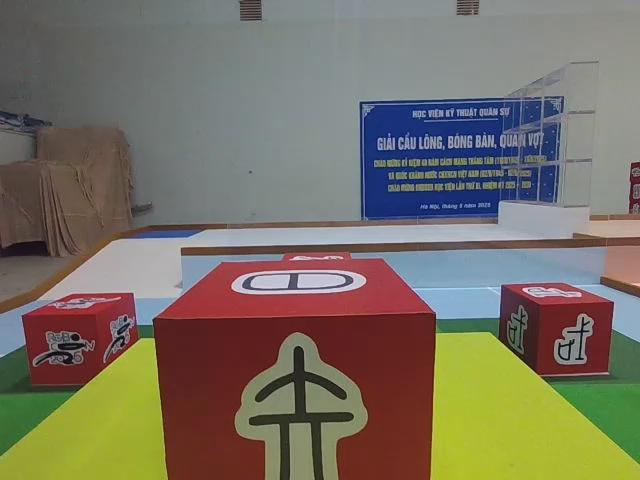R1: (21, 290, 139, 391)
R2 Fake: (152, 259, 436, 480)
R2 Real: (499, 280, 614, 379)
